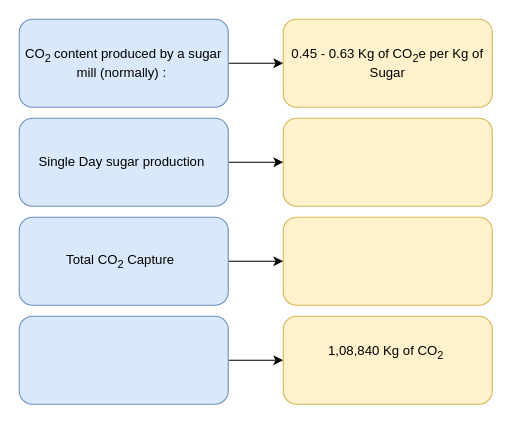
Image size: 512x424. Some labels were removed from this diagram. The centre of each missing label's shape, as x and y in pixels:
"100*0.5=1,36,050 Kg of CO 2" belongs at point 387,260.
"100-300 Ton" belongs at point 387,161.
"Final Product (Assuming Efficienfy = 80%)" belongs at point 123,359.
